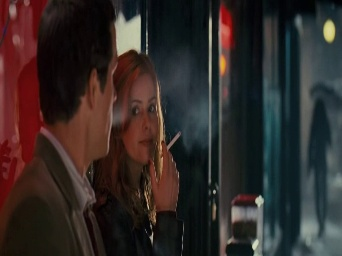smoke: (160, 129, 182, 156)
